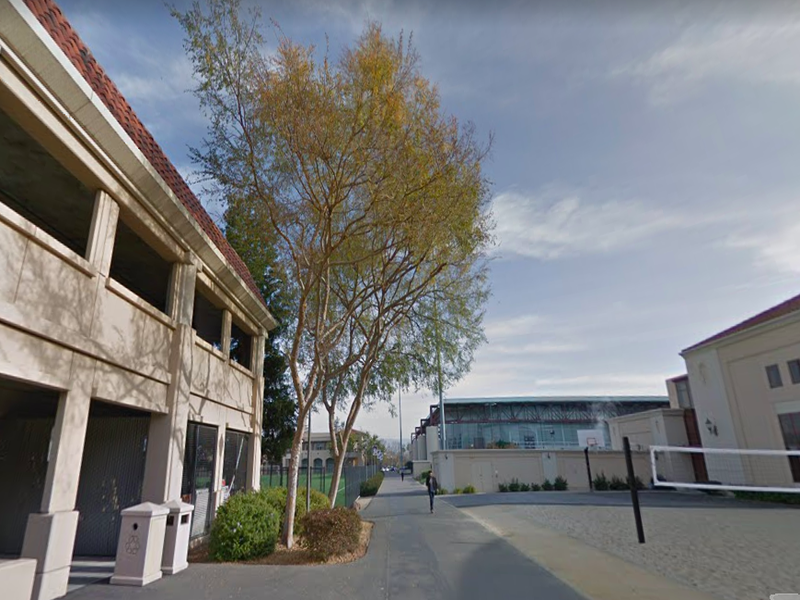tree: (254, 19, 443, 548), (317, 110, 497, 515)
